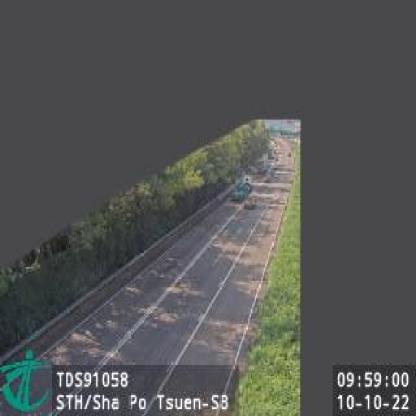Car: (244, 195, 257, 210)
Truck: (234, 178, 250, 204)
